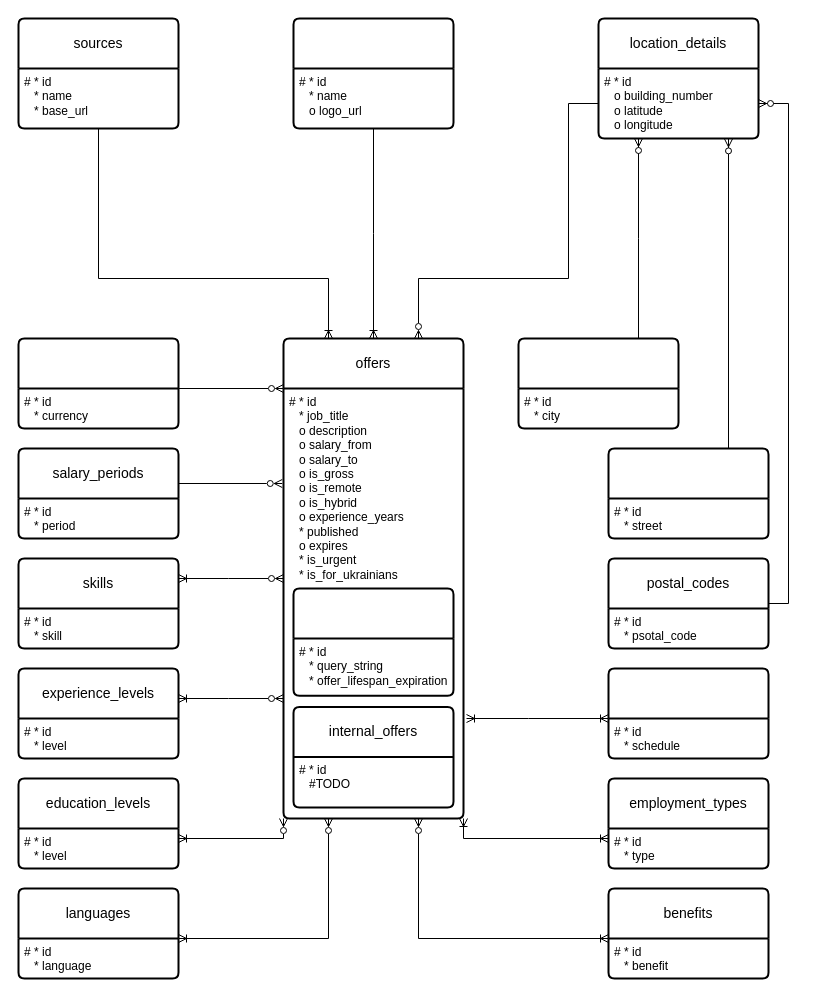
Image size: 814x996. Some labels were removed from this diagram. The box of each missing label's shape, as (x1, y1, x2, y2) in pixels:
cities: (517, 337, 679, 429)
companies: (292, 17, 454, 129)
currencies: (17, 337, 179, 429)
employment_schedules: (607, 667, 769, 759)
external_offers: (292, 587, 454, 696)
streets: (607, 447, 769, 539)
